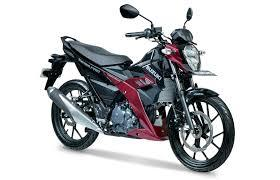motorcycle: (34, 3, 239, 176)
